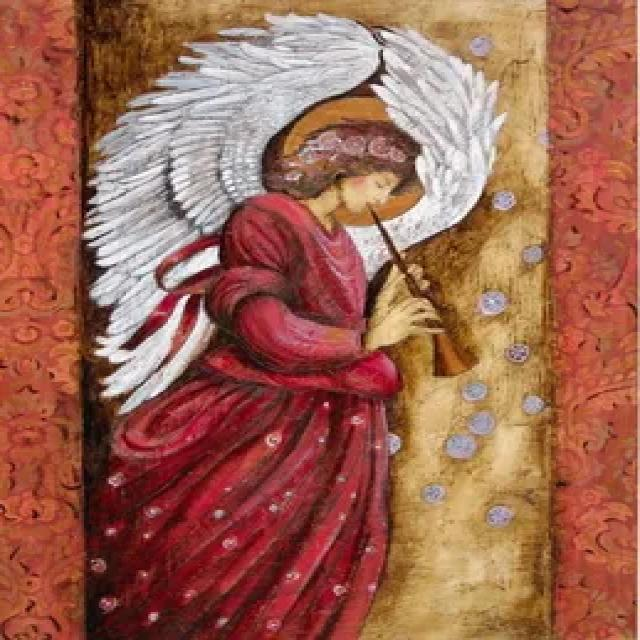angel: (81, 3, 512, 640)
